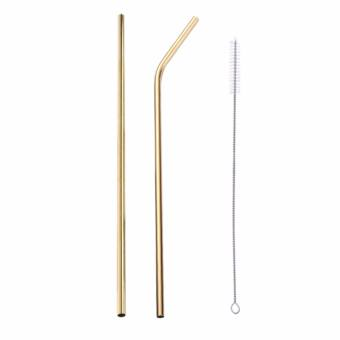Drinking Straw: (152, 15, 205, 320), (115, 11, 131, 320)
